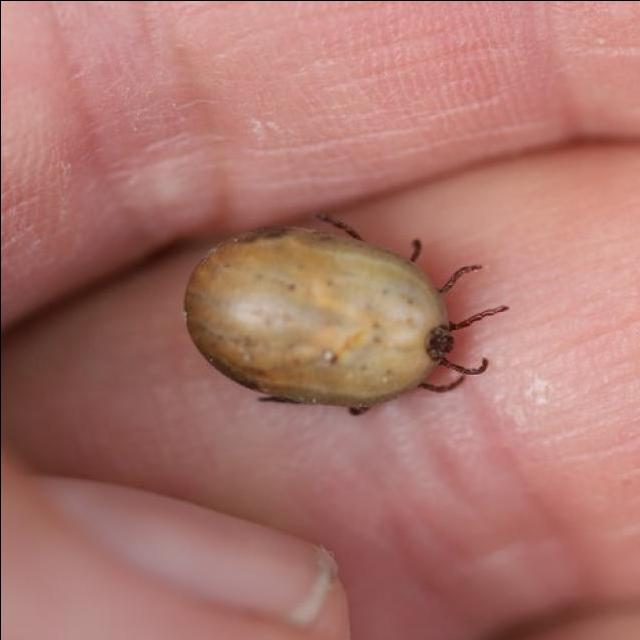Dermacentor Reticulatus-F-Fed: (181, 212, 506, 414)
